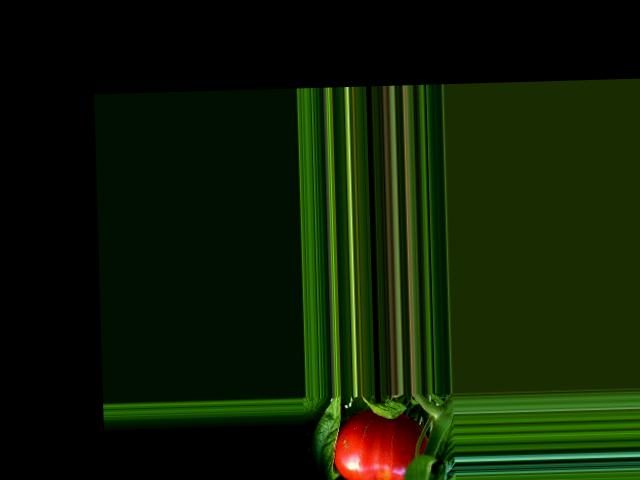tomato: (331, 408, 429, 480)
